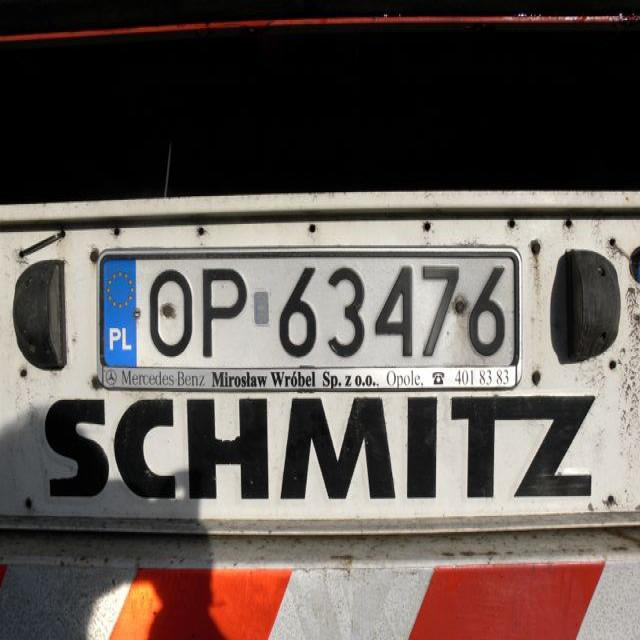pl_license_plate: (102, 258, 513, 366)
